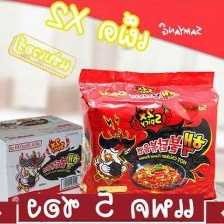snack: (70, 64, 223, 198)
